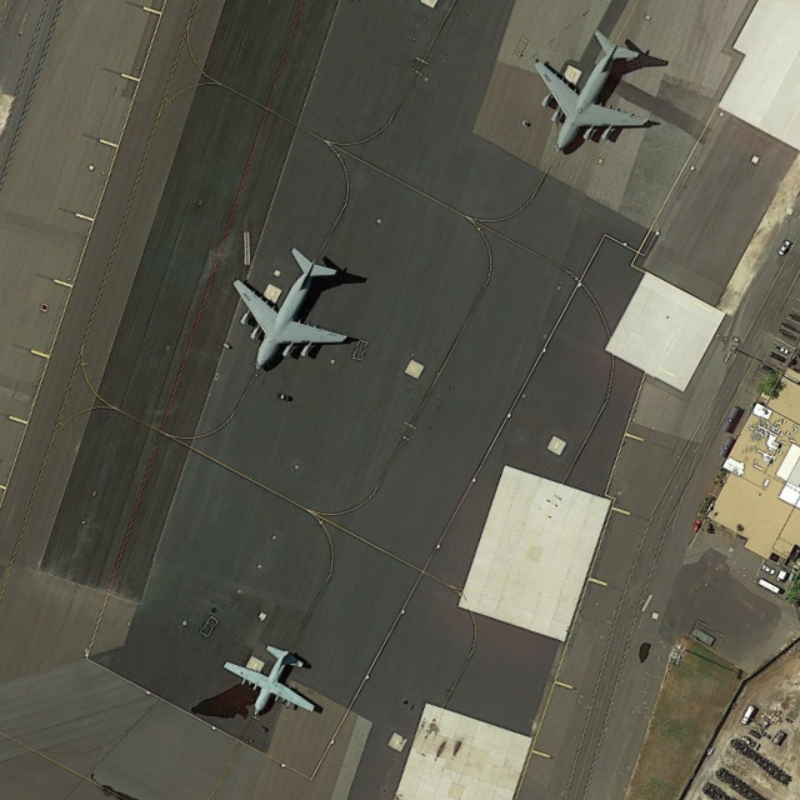A2: (220, 642, 321, 720)
A3: (230, 242, 358, 376), (532, 26, 656, 154)
